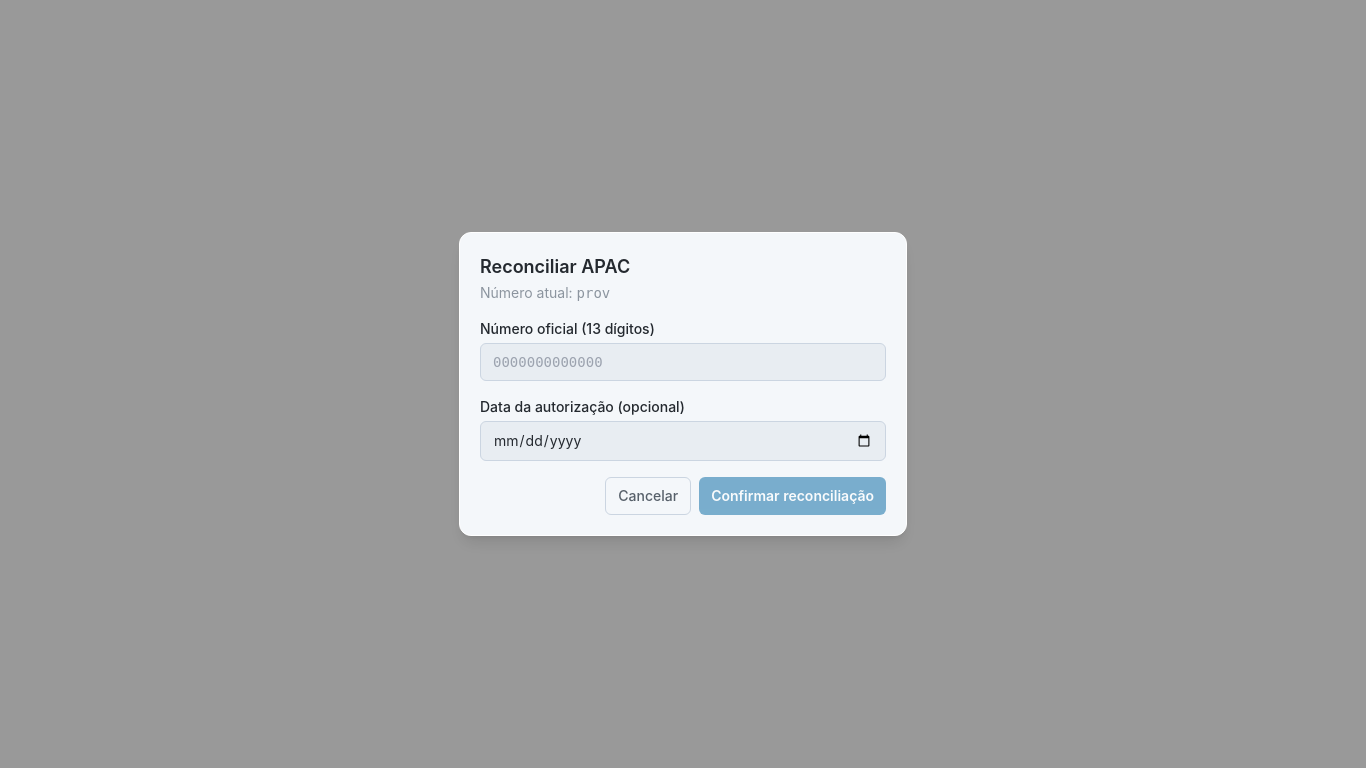
Test case: ReconciliarApacModal › disables confirm until a 13-digit number is entered
This screenshot has width=1366, height=768.
Expected: the button "Confirmar reconciliação" is disabled, [699,477,886,515]
Type "123" into the field labelled "Número oficial" at (683, 362), box [480,343,886,381]
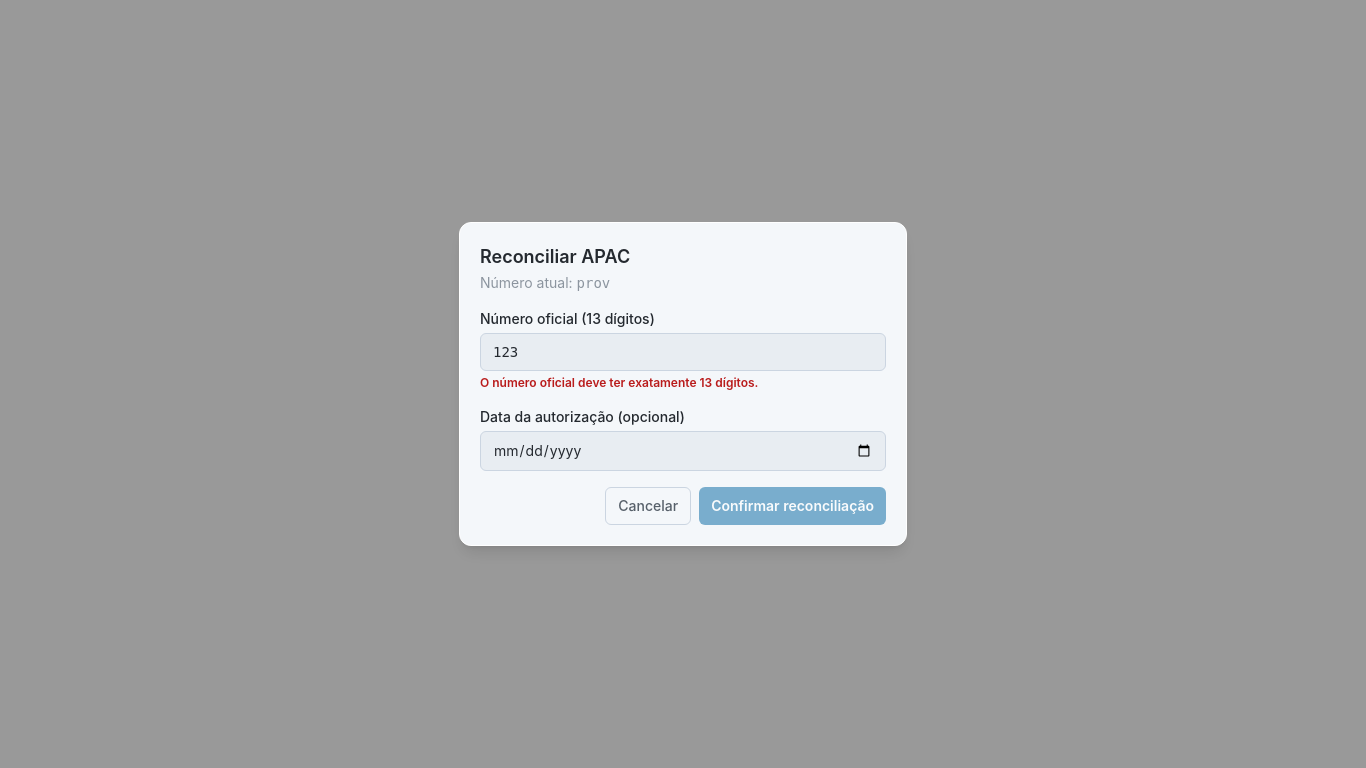
Expected: the button "Confirmar reconciliação" is disabled, [699,487,886,525]
Replace the text in the field labelled "Número oficial" with "9999999999999" at (683, 352), box [480,333,886,371]
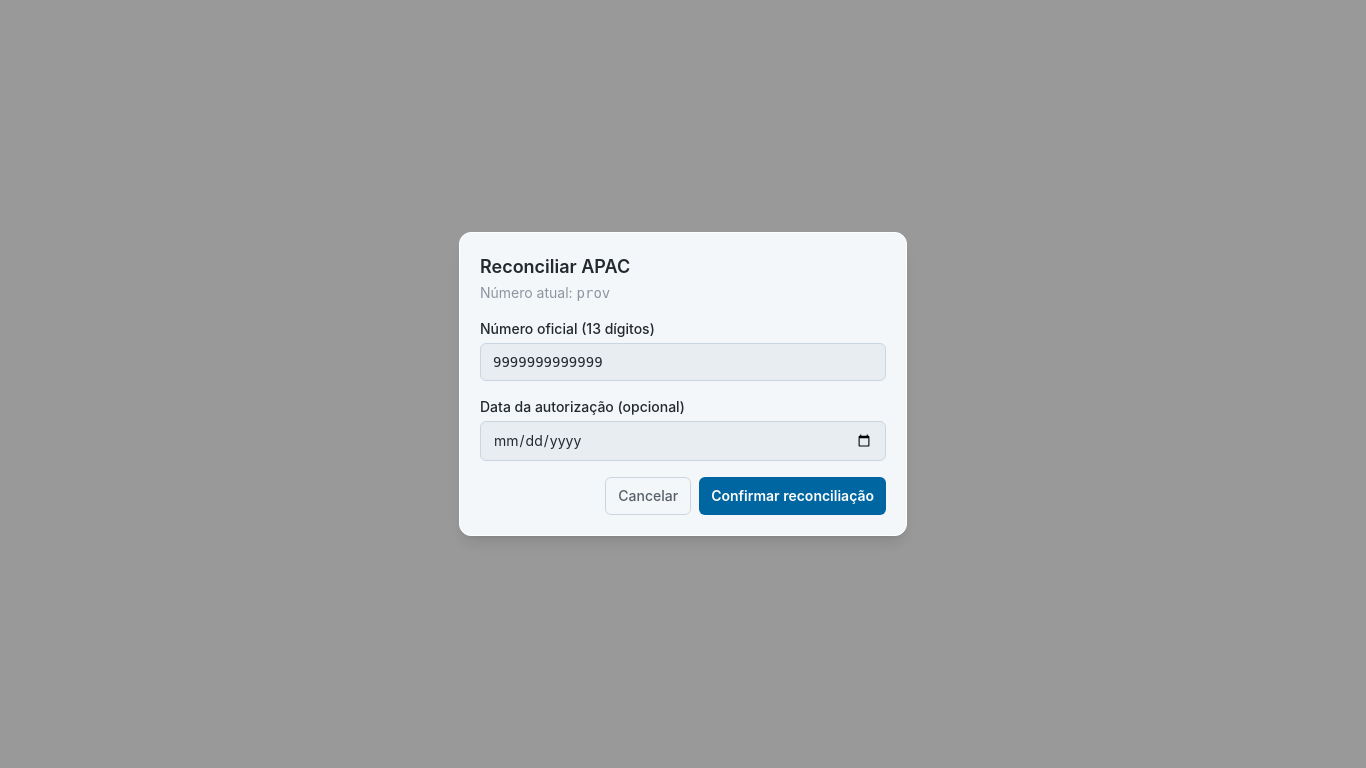
Expected: the button "Confirmar reconciliação" is enabled, [699,477,886,515]
